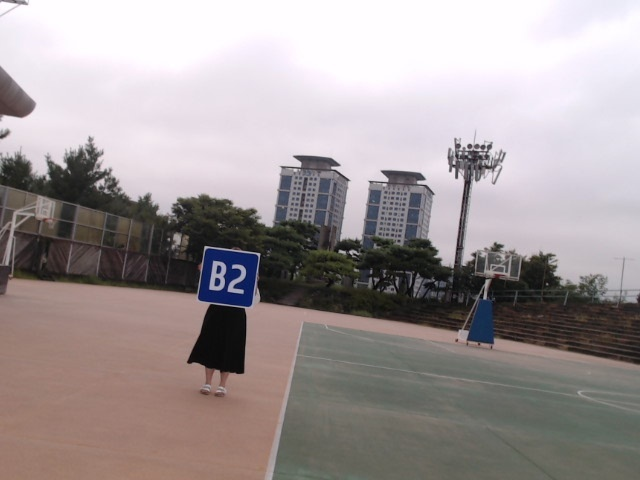delivery_b2: (197, 247, 260, 307)
